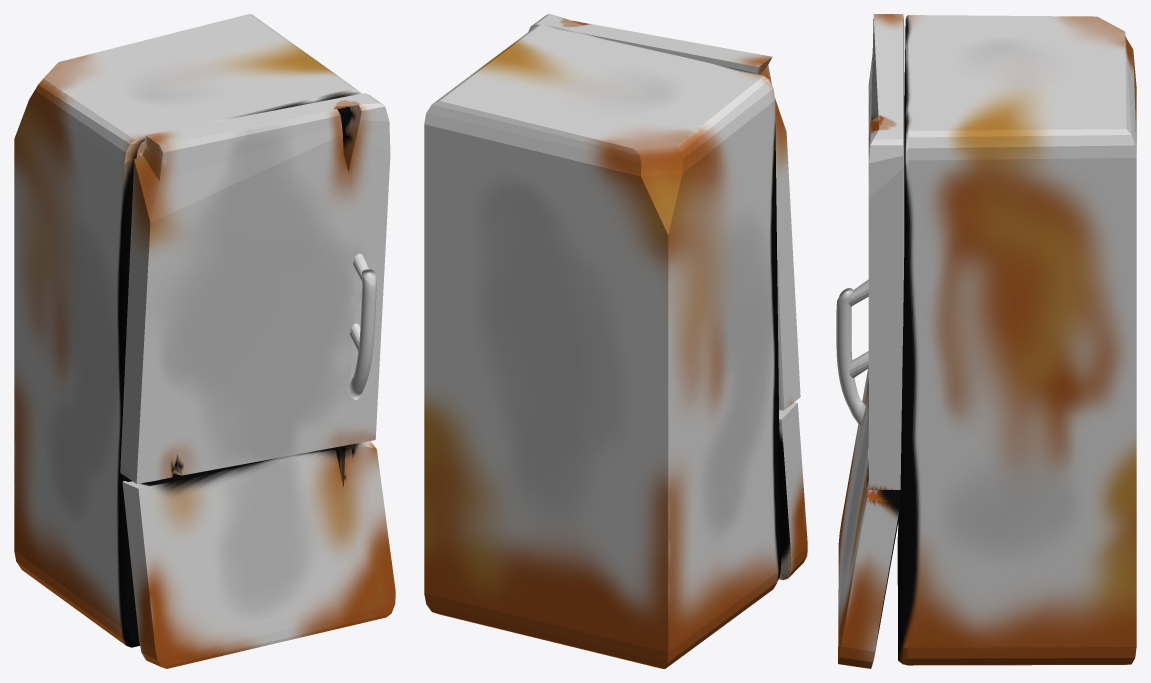
File: Fridge.fbx
3 renders of one model, left to right at view 1: azimuth 30°, elevation 25°; view 2: azimuth 150°, elevation 25°; view 3: azimuth 270°, elevation 25°, orthographic. The views are drawn at different scales.
Visible parts, largest first — view 1: Heladera; view 2: Heladera; view 3: Heladera.
Part boxes in pixels (x1=…): Heladera: x1=14, y1=14, x2=395, y2=668; Heladera: x1=424, y1=14, x2=807, y2=668; Heladera: x1=836, y1=14, x2=1136, y2=668.
Size of the model in its own units: 354 by 686 by 342.
